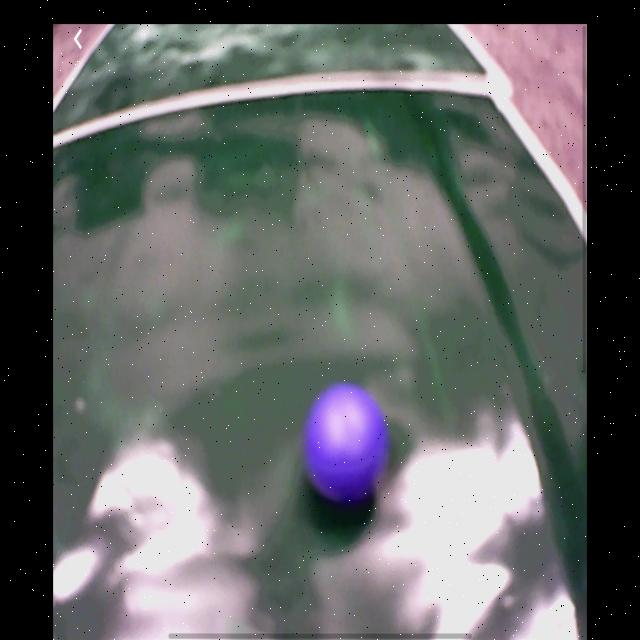ball: (300, 383, 388, 508)
